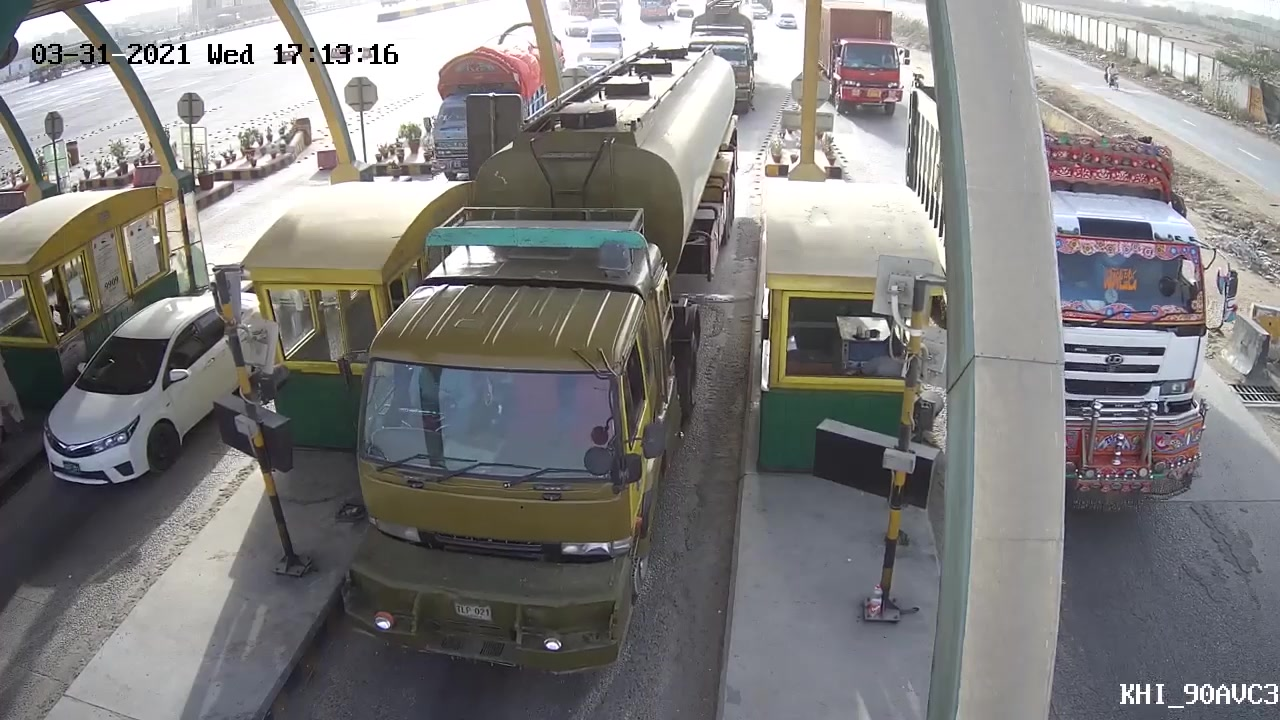F6: (340, 53, 745, 690)
